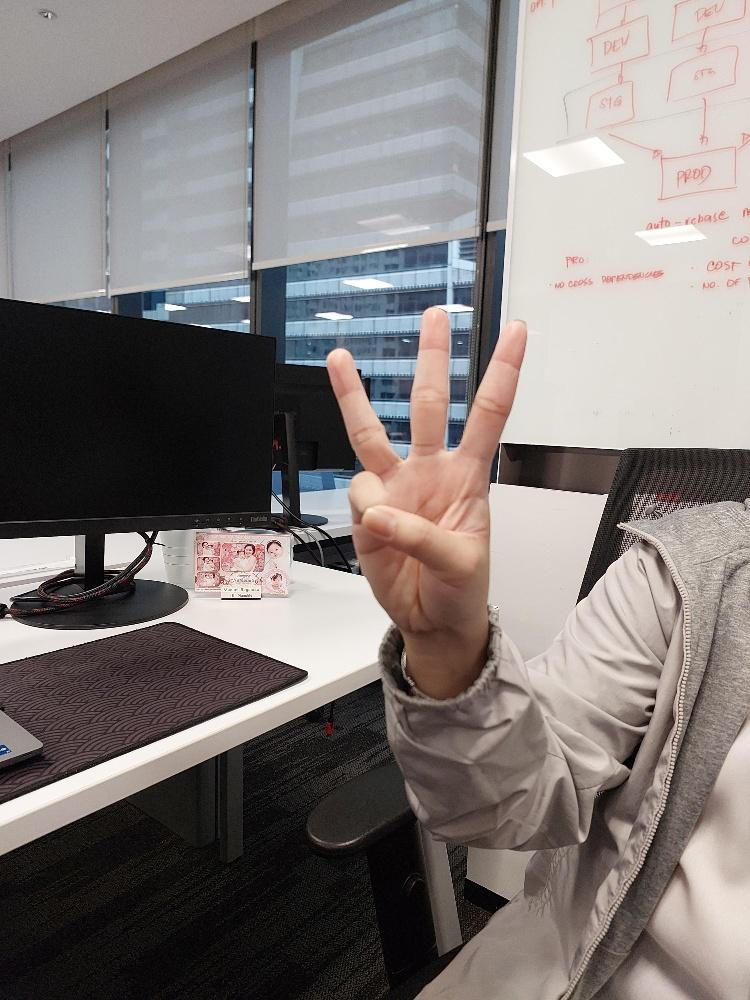w: (325, 305, 527, 631)
